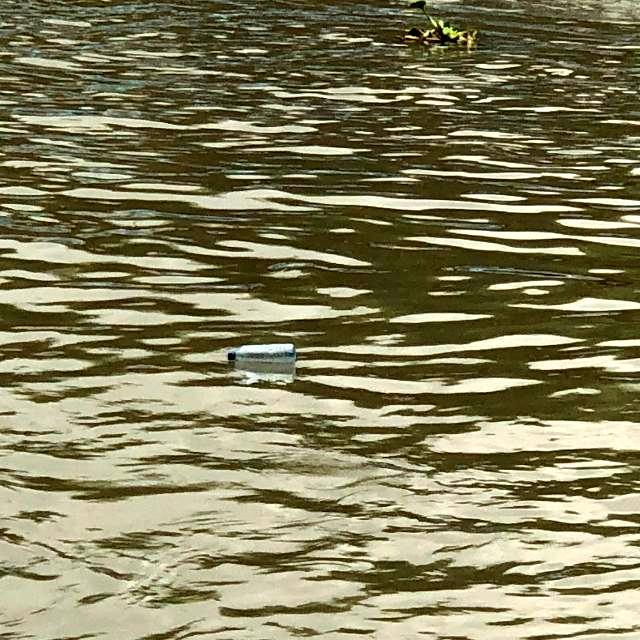plastic bottle: (219, 343, 300, 364)
water-hyacinth: (402, 1, 482, 54)
